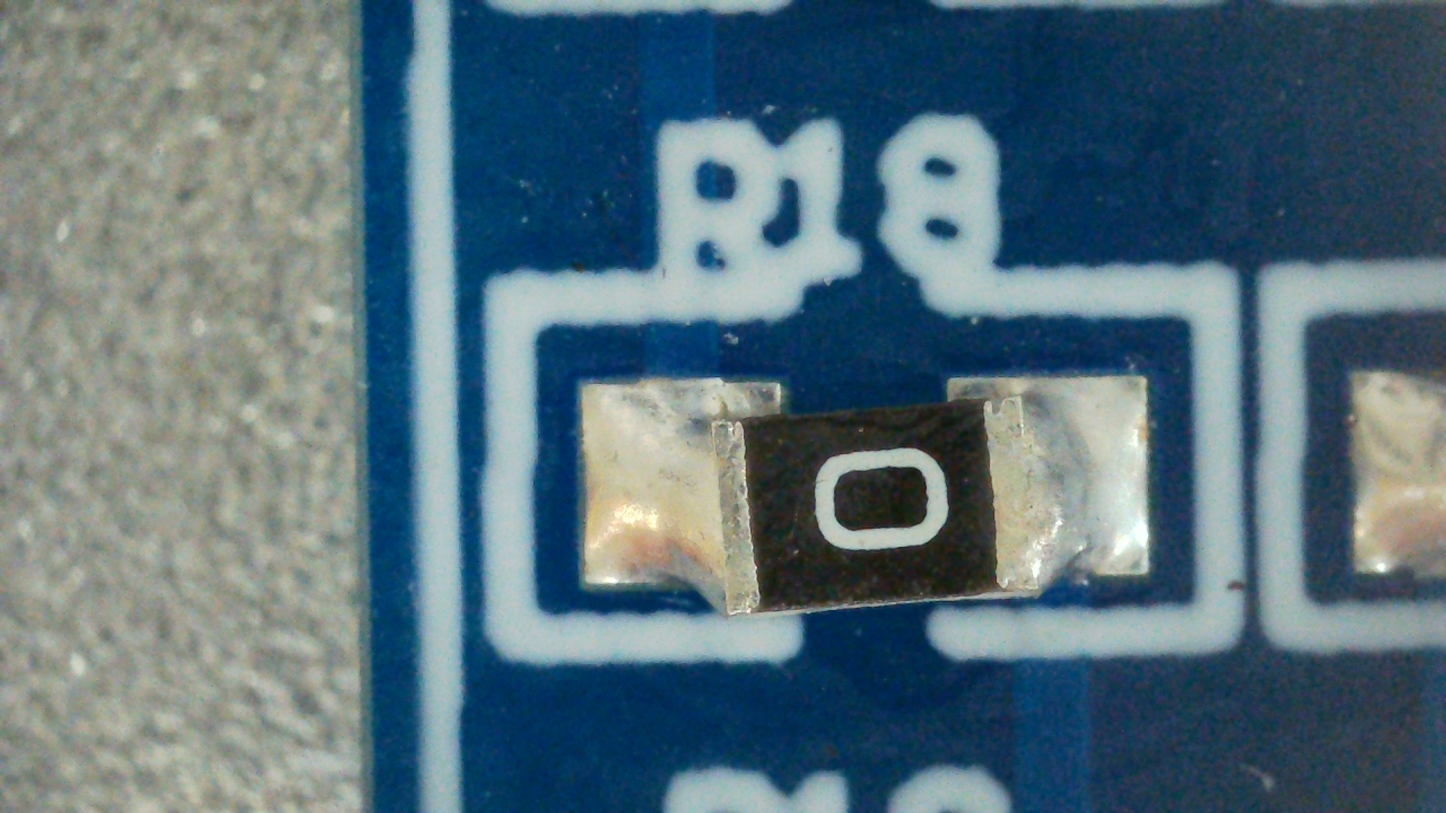NG: (582, 377, 1149, 615)
